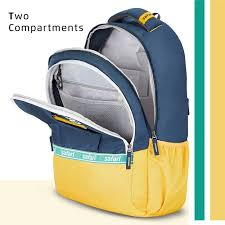backpack: (11, 7, 189, 217)
